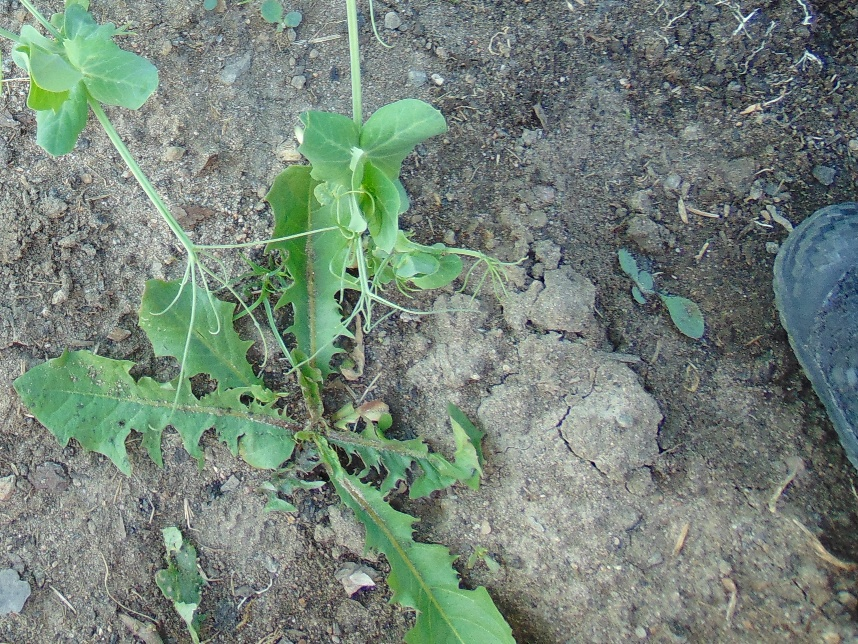crop: (1, 1, 239, 294), (299, 1, 508, 318)
weed: (93, 268, 483, 593), (13, 319, 389, 488), (264, 399, 522, 644), (261, 171, 342, 436), (614, 250, 703, 345), (257, 1, 306, 46)
